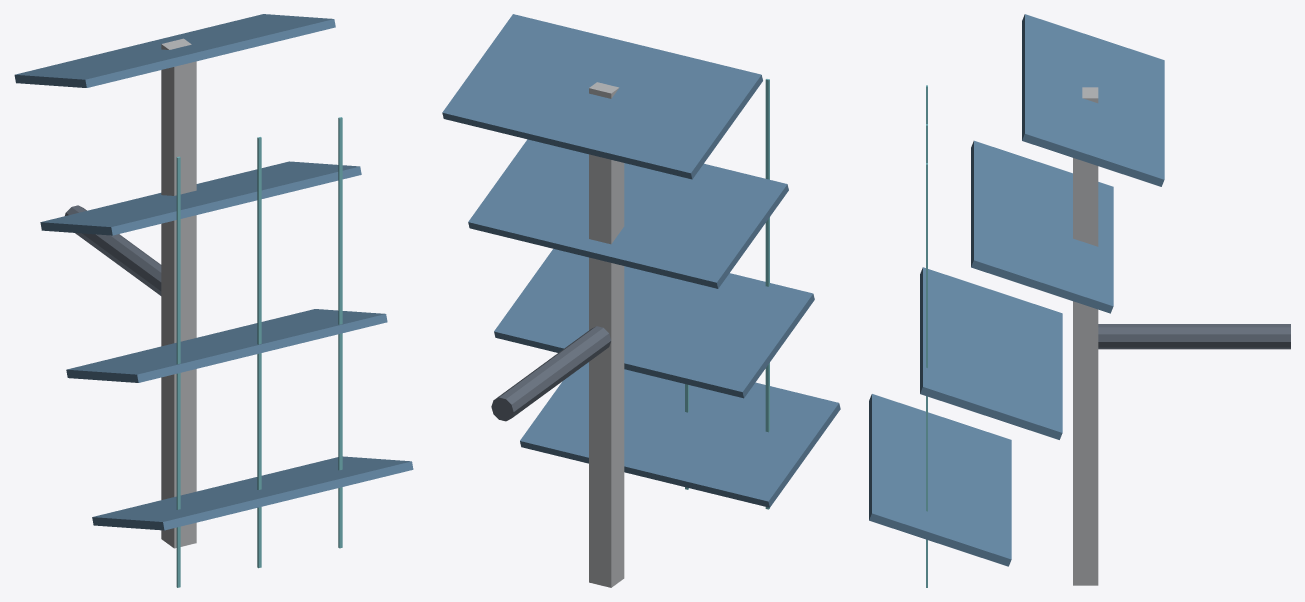
Rendered from solar_array.glb.
The picture shows the model from 3 angles, left to right: view 1: azimuth 30°, elevation 25°; view 2: azimuth 150°, elevation 25°; view 3: azimuth 270°, elevation 25°; orthographic projection.
Parts seen in each view (by area): view 1: solar_array_0, solar_array_2, solar_array_3, solar_array_5, solar_array_4, solar_array_1, solar_array_8, solar_array_7, solar_array_6; view 2: solar_array_5, solar_array_4, solar_array_2, solar_array_3, solar_array_0, solar_array_1, solar_array_6; view 3: solar_array_5, solar_array_3, solar_array_2, solar_array_4, solar_array_0, solar_array_1, solar_array_8.
Boxes of the visible parts, x1,y1,x2,y2 form: solar_array_0: (161,38,196,548); solar_array_2: (92,456,413,530); solar_array_3: (66,309,387,382); solar_array_5: (14,14,335,87); solar_array_4: (40,161,361,235); solar_array_1: (65,205,161,295); solar_array_8: (338,117,342,548); solar_array_7: (257,137,261,568); solar_array_6: (176,156,180,587); solar_array_5: (442,14,762,179); solar_array_4: (468,139,788,288); solar_array_2: (520,362,840,507); solar_array_3: (494,249,814,398); solar_array_0: (589,82,624,587); solar_array_1: (491,326,611,421); solar_array_6: (765,79,769,509); solar_array_5: (1022,14,1164,186); solar_array_3: (920,267,1062,439); solar_array_2: (869,394,1011,566); solar_array_4: (971,140,1113,313); solar_array_0: (1073,87,1098,585); solar_array_1: (1098,324,1290,349); solar_array_8: (926,163,927,587).
Bounding box in the file's own units: 2 × 3.95 × 2.98.
